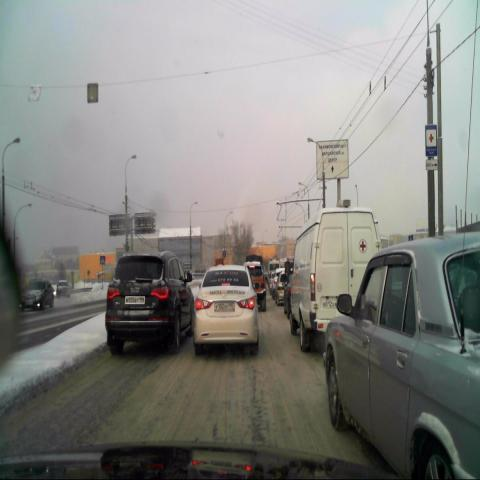7_1: (425, 124, 436, 153)
